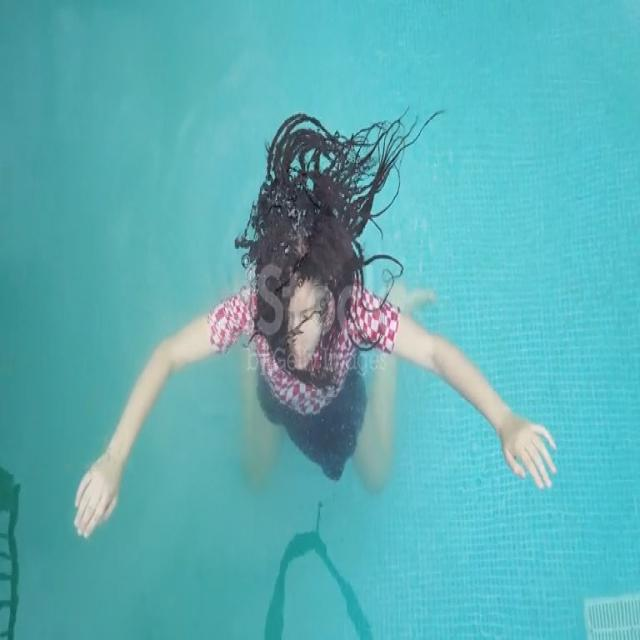Drowning: (73, 109, 560, 544)
